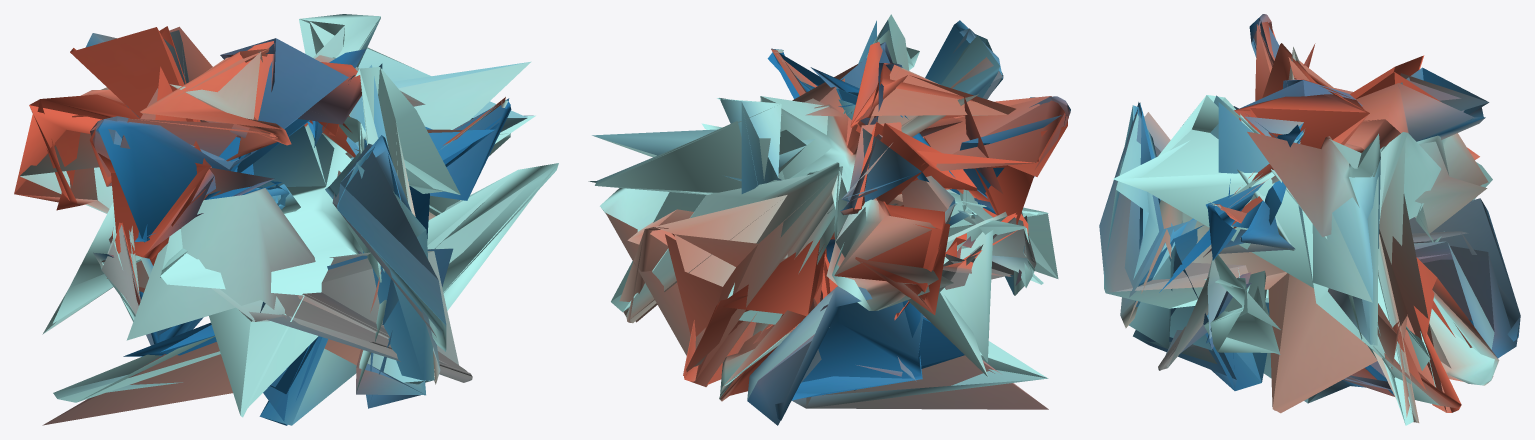
The model's file is hp-lachs.gltf.
3 renders of one model, left to right at view 1: azimuth 30°, elevation 25°; view 2: azimuth 150°, elevation 25°; view 3: azimuth 270°, elevation 25°, orthographic. The views are drawn at different scales.
Parts seen in each view (by area): view 1: gamms; view 2: gamms; view 3: gamms.
Part boxes in pixels (<box>): gamms: <box>14,14,558,425</box>; gamms: <box>588,14,1070,425</box>; gamms: <box>1099,14,1520,425</box>.
Bounding box in the file's own units: 1224 × 846 × 1050.
Materials: 1 (1 with a texture image).
